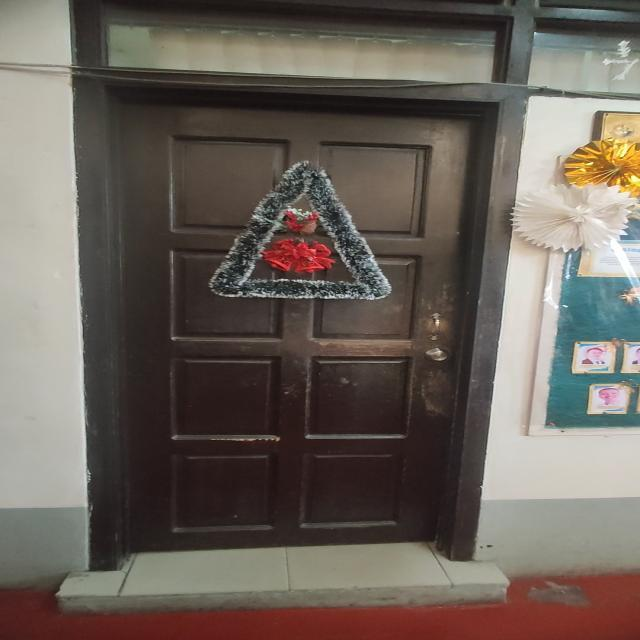door: (109, 96, 487, 569)
